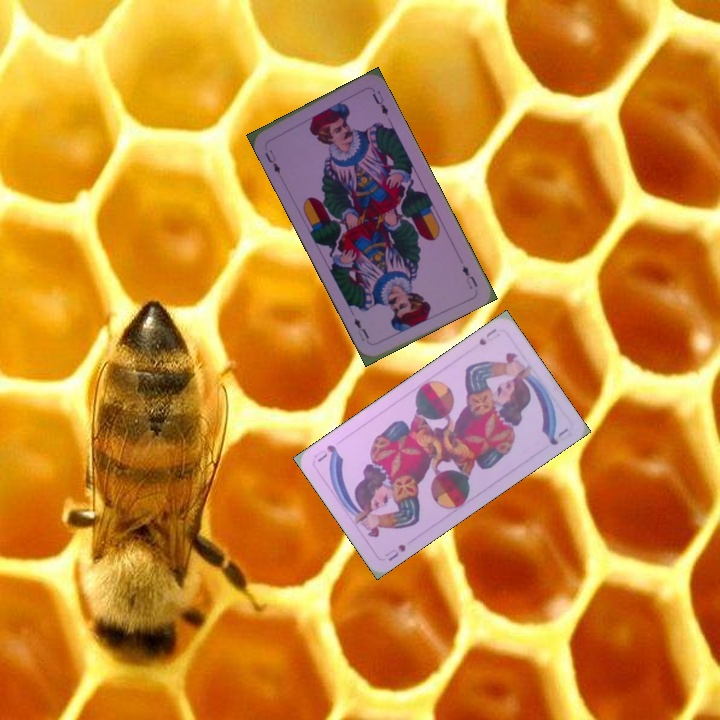EU: (260, 145, 283, 176), (458, 261, 480, 292)
SU: (381, 540, 408, 564), (475, 324, 499, 348)
